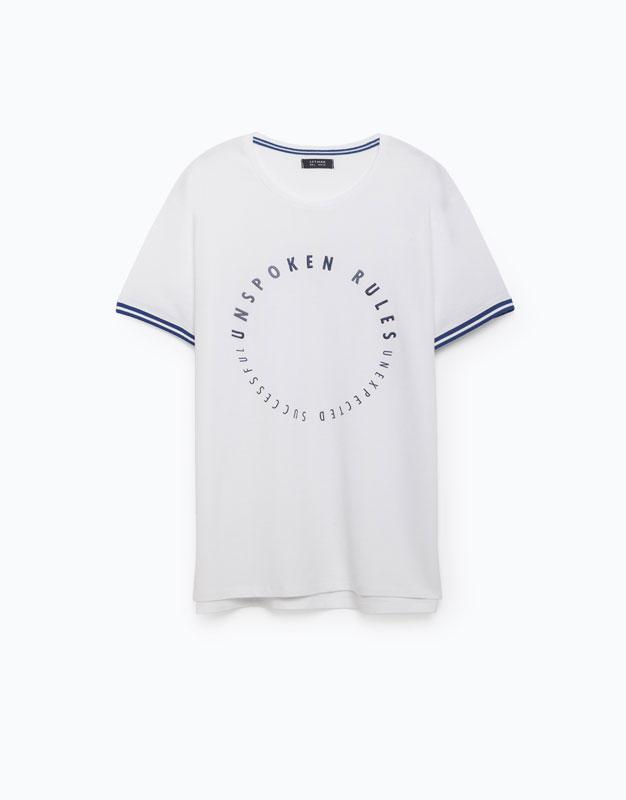teeshirt: (101, 125, 542, 634)
